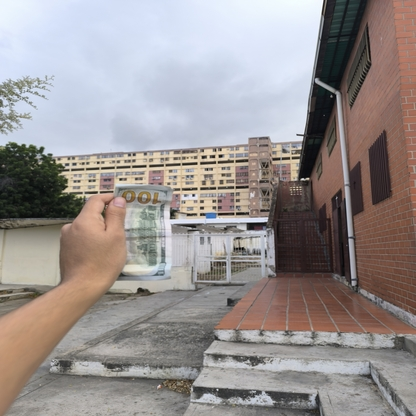one_hundred-back: (107, 181, 178, 283)
